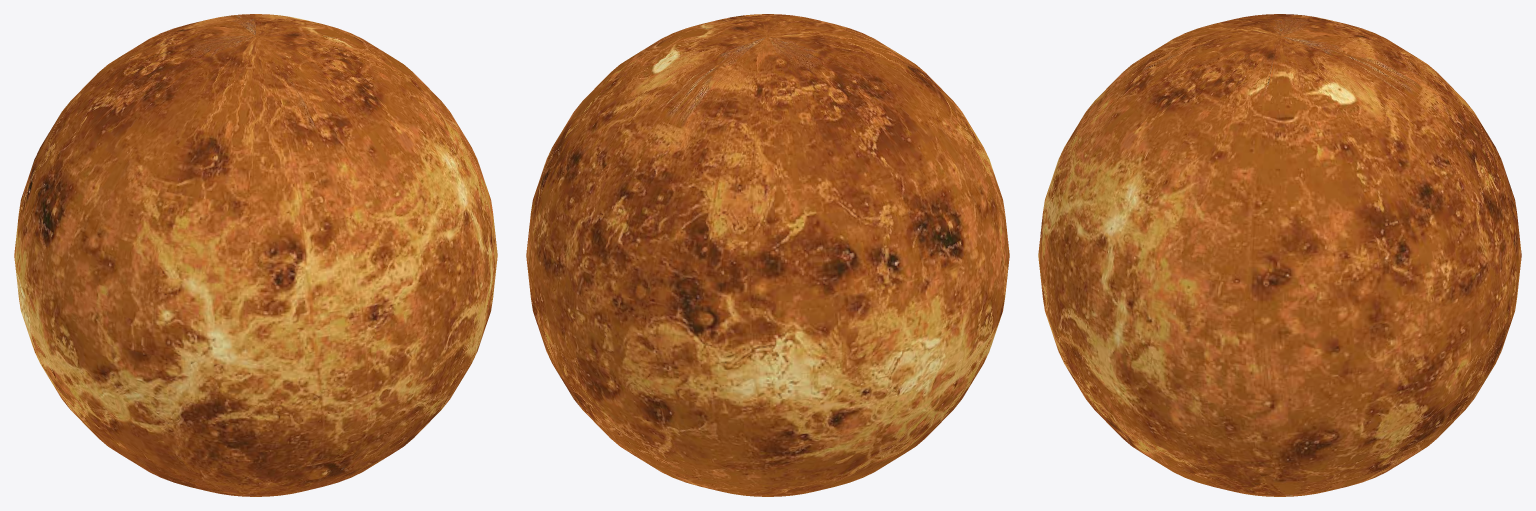
File: venus.glb
3 renders of one model, left to right at view 1: azimuth 30°, elevation 25°; view 2: azimuth 150°, elevation 25°; view 3: azimuth 270°, elevation 25°, orthographic.
Parts seen in each view (by area): view 1: Venus; view 2: Venus; view 3: Venus.
Boxes of the visible parts, left/top/right/bottom form: Venus: left=14, top=14, right=497, bottom=496; Venus: left=526, top=14, right=1009, bottom=496; Venus: left=1038, top=14, right=1521, bottom=496.
Bounding box in the file's own units: 60 × 60 × 60.
Materials: 1 (1 with a texture image).
